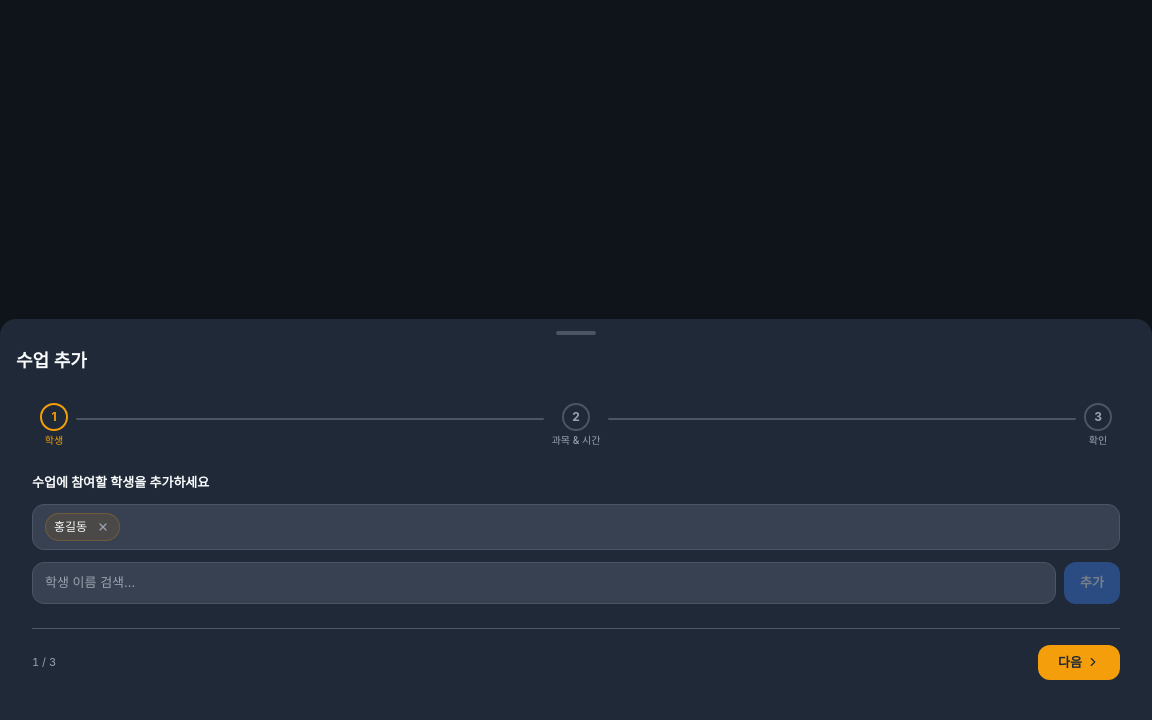
Test: GroupSessionModal - 강사·과목 인라인 추가 › canManage=true 이면 강사 dropdown 안 '새 강사 추가' 버튼이 렌더된다 (TeacherDropdownPicker 통합, PR5 Part 3)
The width and height of the screenshot is (1152, 720).
Click the button "다음". click: coordinates (1079, 662)
box: [1038, 644, 1120, 680]
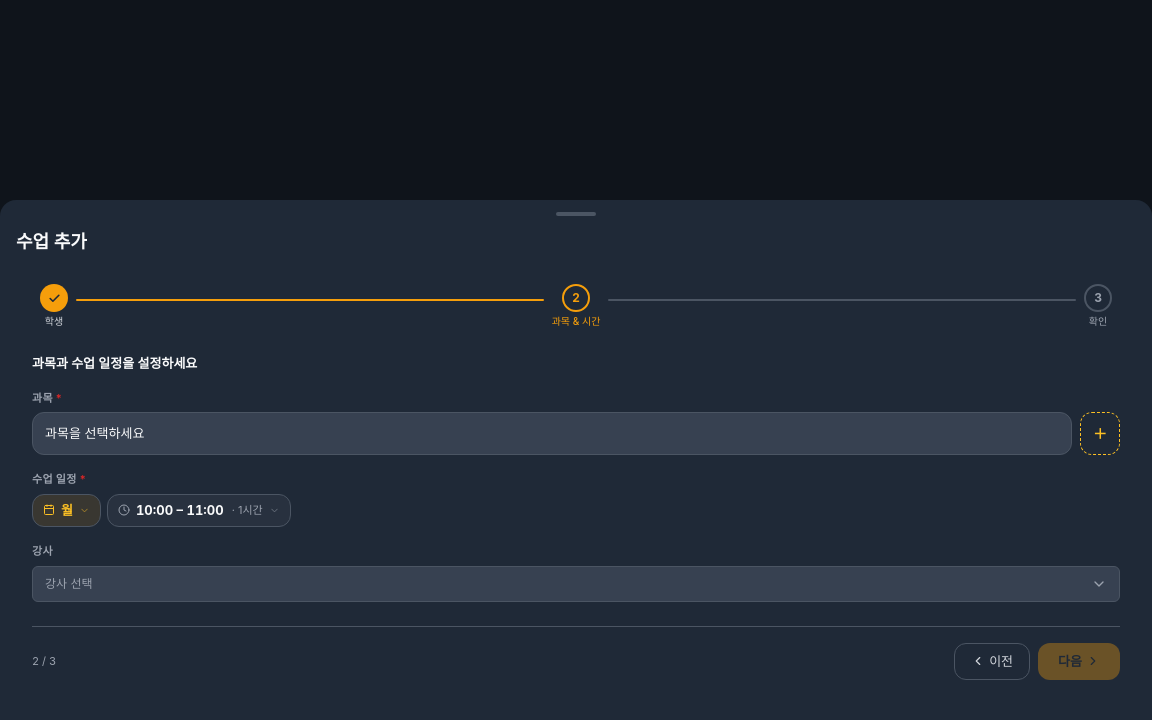
Click the button with test id "teacher-dropdown-trigger". click: coordinates (69, 583)
box: [32, 566, 1120, 602]
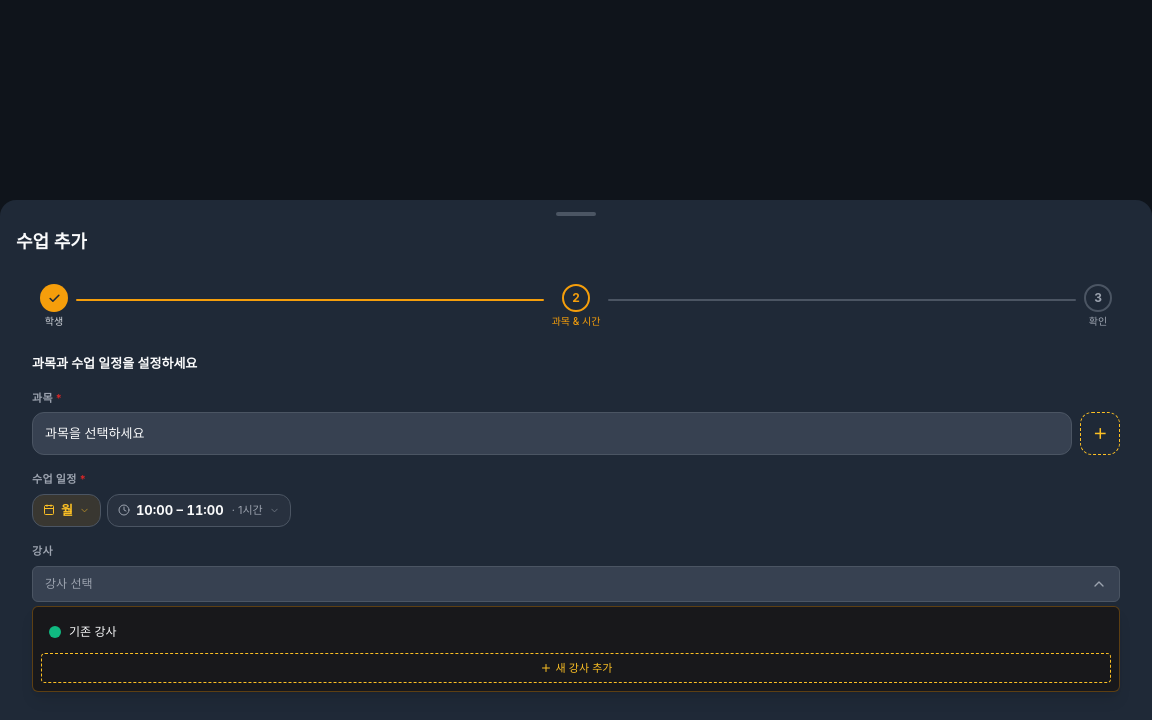
Now the button with test id "teacher-dropdown-add-new" is shown, box [41, 652, 1111, 683]
